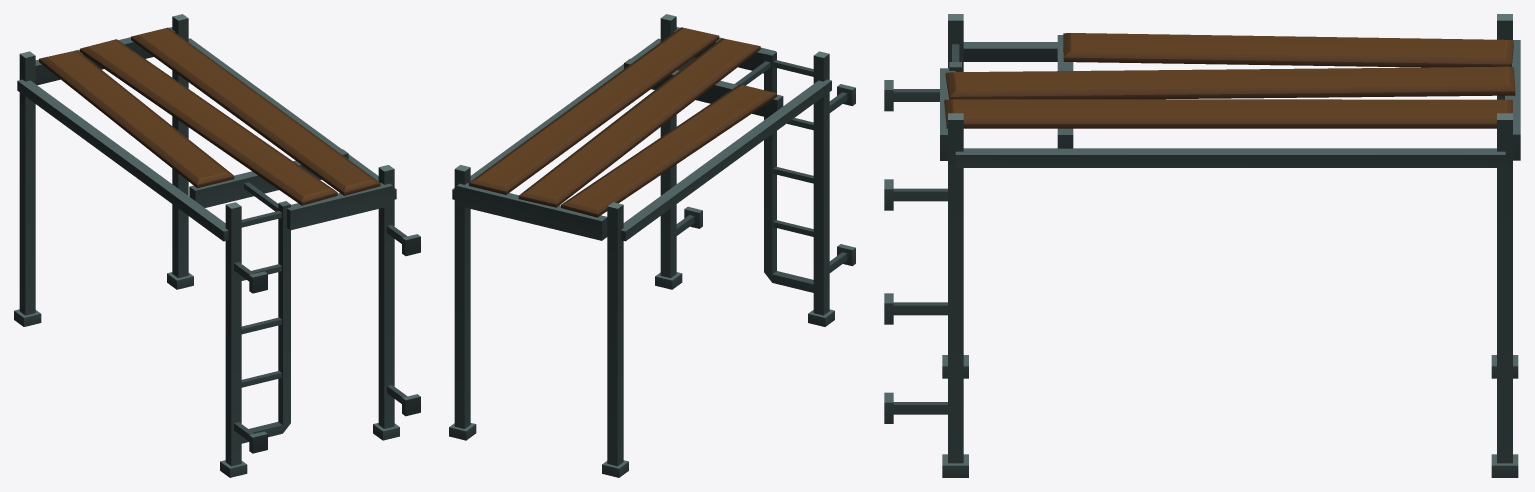
File: Scaffolding_1A.fbx
3 views of the same model, side by side, from view 1: azimuth 30°, elevation 25°; view 2: azimuth 150°, elevation 25°; view 3: azimuth 270°, elevation 25° (orthographic). The views are drawn at different scales.
Parts seen in each view (by area): view 1: Scaffolding_1A; view 2: Scaffolding_1A; view 3: Scaffolding_1A.
Boxes of the visible parts, x1,y1,x2,y2 form: Scaffolding_1A: (14, 14, 420, 477); Scaffolding_1A: (449, 14, 855, 477); Scaffolding_1A: (884, 14, 1520, 477).
Bounding box in the file's own units: 340 × 500 × 811.
